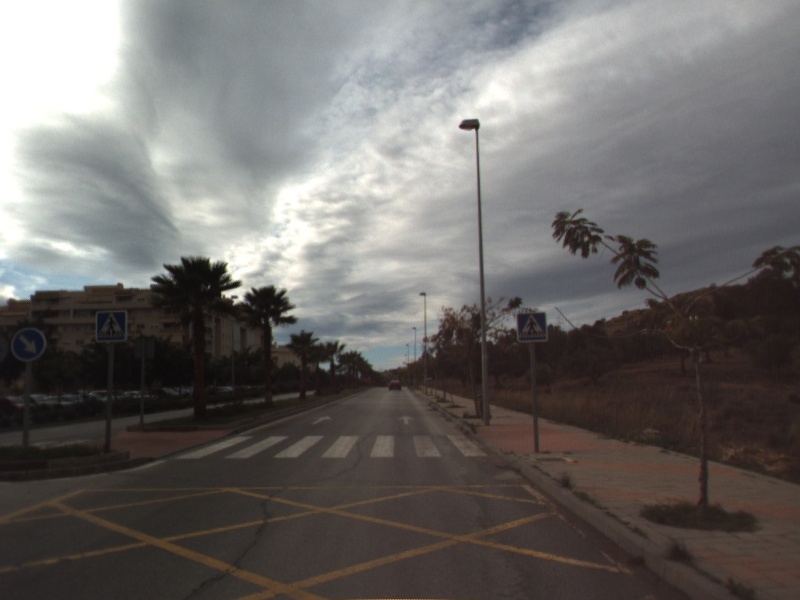STRAIGHT: (309, 413, 333, 427), (395, 413, 417, 427)
